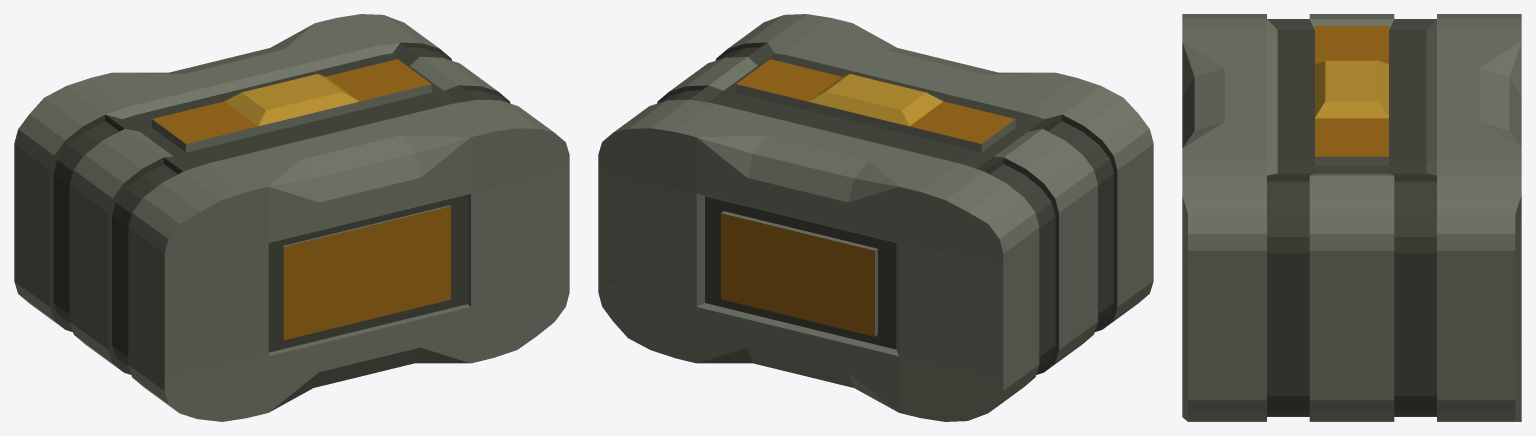
File: capacity.fbx
3 renders of one model, left to right at view 1: azimuth 30°, elevation 25°; view 2: azimuth 150°, elevation 25°; view 3: azimuth 270°, elevation 25°, orthographic. The views are drawn at different scales.
Visible parts, largest first — view 1: Capacity; view 2: Capacity; view 3: Capacity.
Part boxes in pixels (x1,y1,x2,y2): Capacity: (14,14,569,421); Capacity: (598,14,1153,421); Capacity: (1182,14,1521,421).
Bounding box in the file's own units: 150 × 85.82 × 100.
